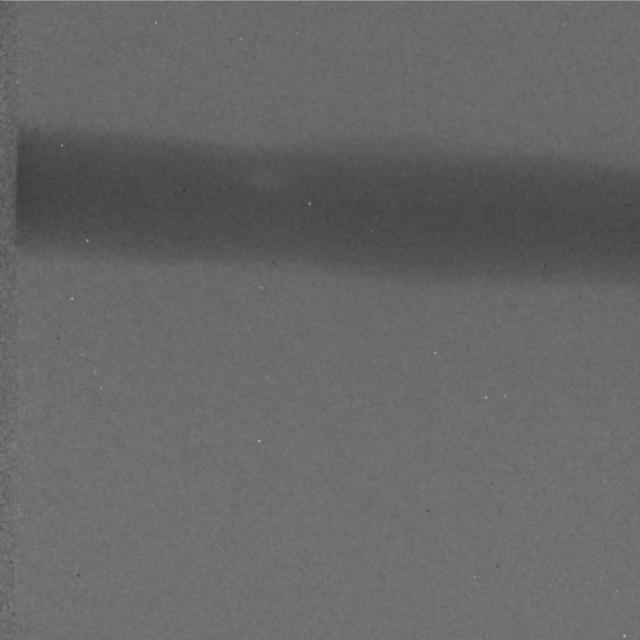slag inclusion: (245, 163, 288, 196)
